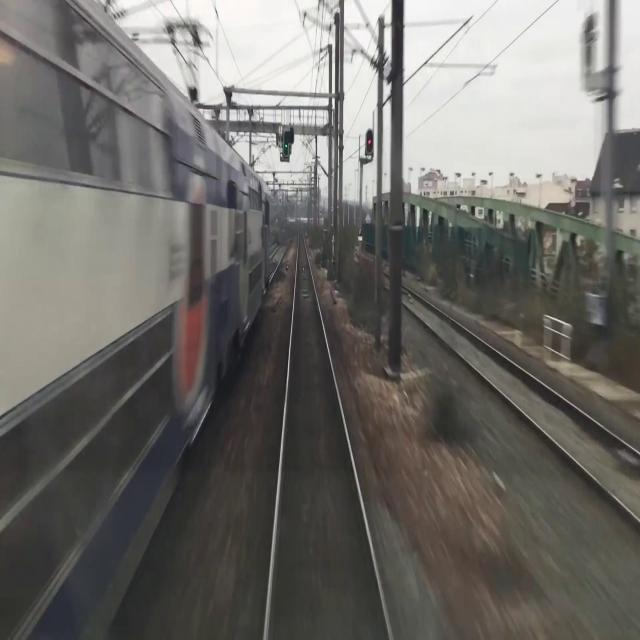rail-track: (402, 286, 640, 517), (267, 230, 389, 639), (270, 236, 291, 275)
